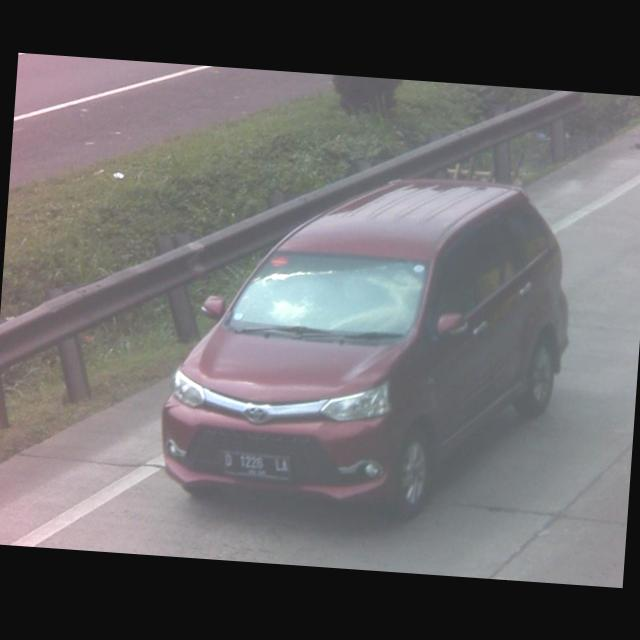plate: (220, 448, 292, 482)
